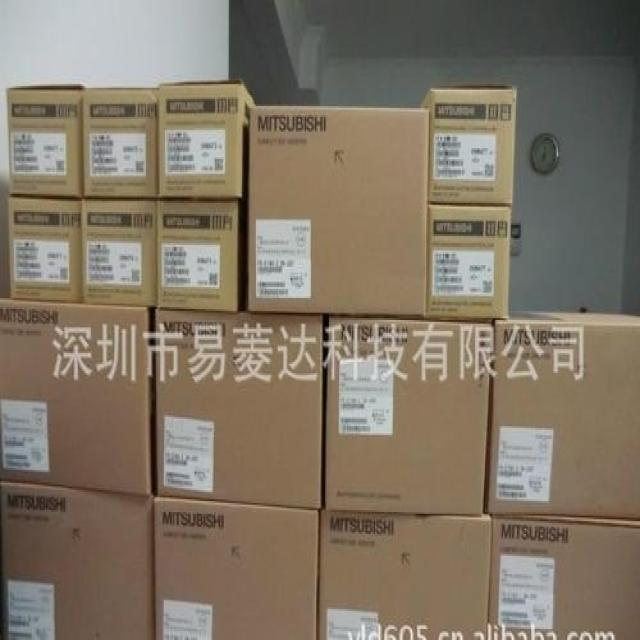box: (247, 106, 428, 318), (155, 305, 325, 508), (0, 281, 155, 496), (325, 318, 492, 516), (486, 310, 639, 517), (3, 482, 154, 638), (155, 497, 317, 638), (317, 512, 488, 638), (486, 516, 639, 638), (158, 84, 257, 203), (418, 88, 517, 203), (157, 200, 248, 312), (425, 203, 509, 321), (82, 85, 159, 197), (7, 85, 83, 197), (82, 197, 158, 308), (8, 195, 84, 302)
